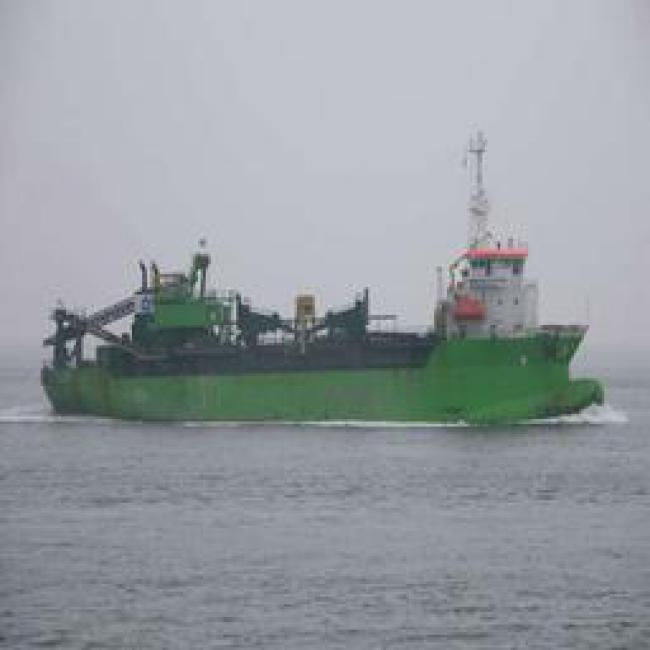Ship: (23, 243, 611, 435)
